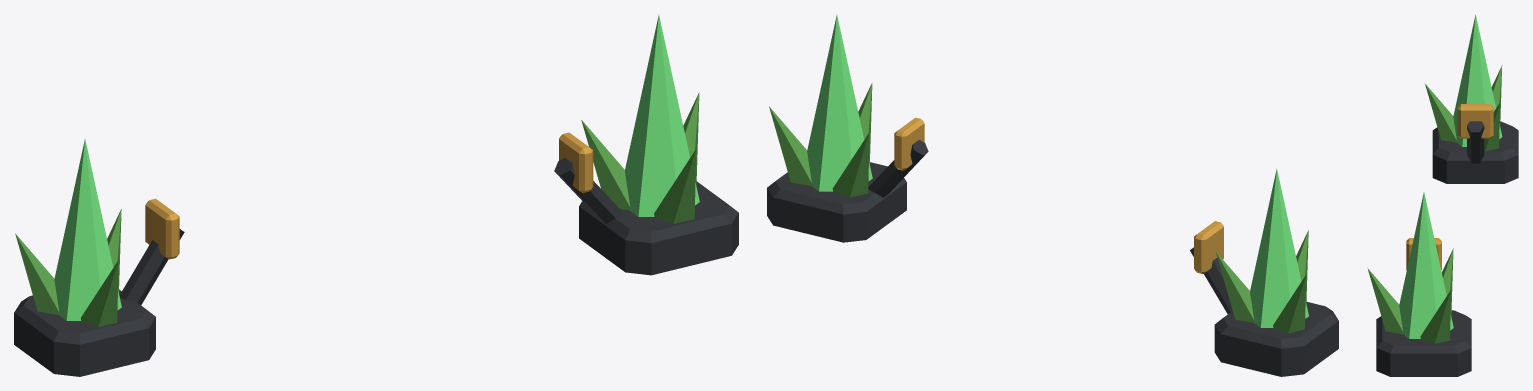
File: MenderDressA2.obj
3 renders of one model, left to right at view 1: azimuth 30°, elevation 25°; view 2: azimuth 150°, elevation 25°; view 3: azimuth 270°, elevation 25°, orthographic. The views are drawn at different scales.
Visible parts, largest first — view 1: MenderDressA2; view 2: MenderDressA2; view 3: MenderDressA2.
Boxes of the visible parts, x1,y1,x2,y2 form: MenderDressA2: [14, 14, 738, 376]; MenderDressA2: [767, 15, 1338, 376]; MenderDressA2: [1367, 14, 1518, 376].
Size of the model in its own units: 1.37 by 0.46 by 0.3806.
